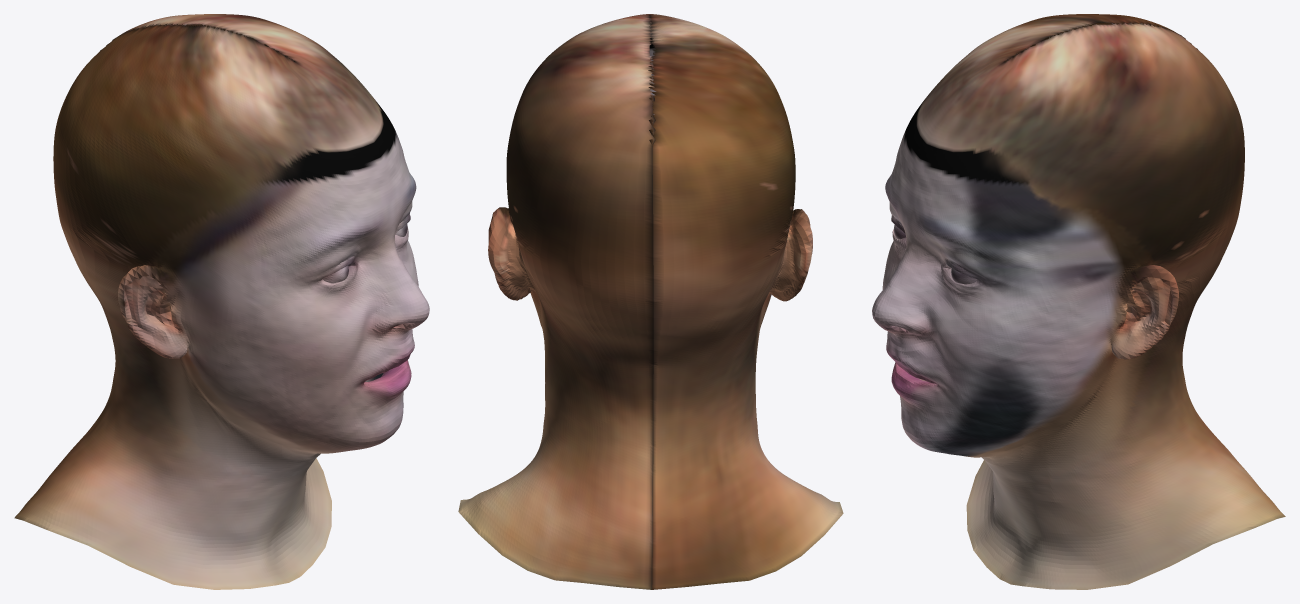
The model's file is cheo1_frame0002_detail.obj.
3 views of the same model, side by side, from view 1: azimuth 30°, elevation 25°; view 2: azimuth 150°, elevation 25°; view 3: azimuth 270°, elevation 25° (orthographic).
Size of the model in its own units: 0.2124 by 0.3209 by 0.2266.
